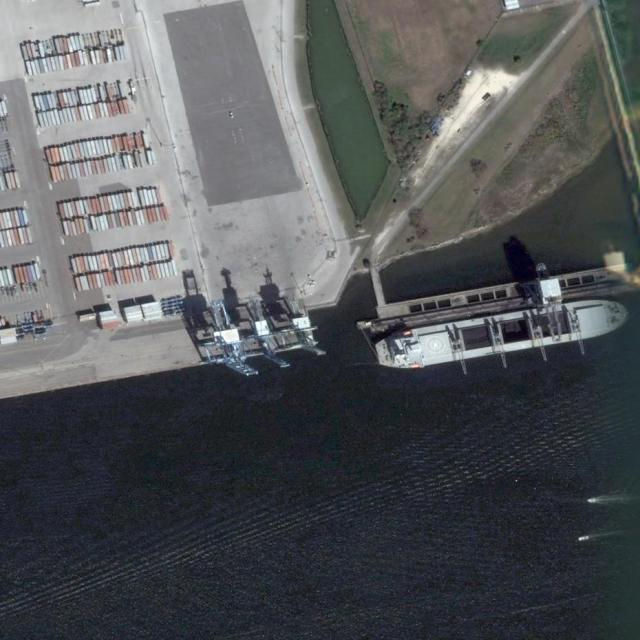Cargo: (373, 294, 630, 372)
